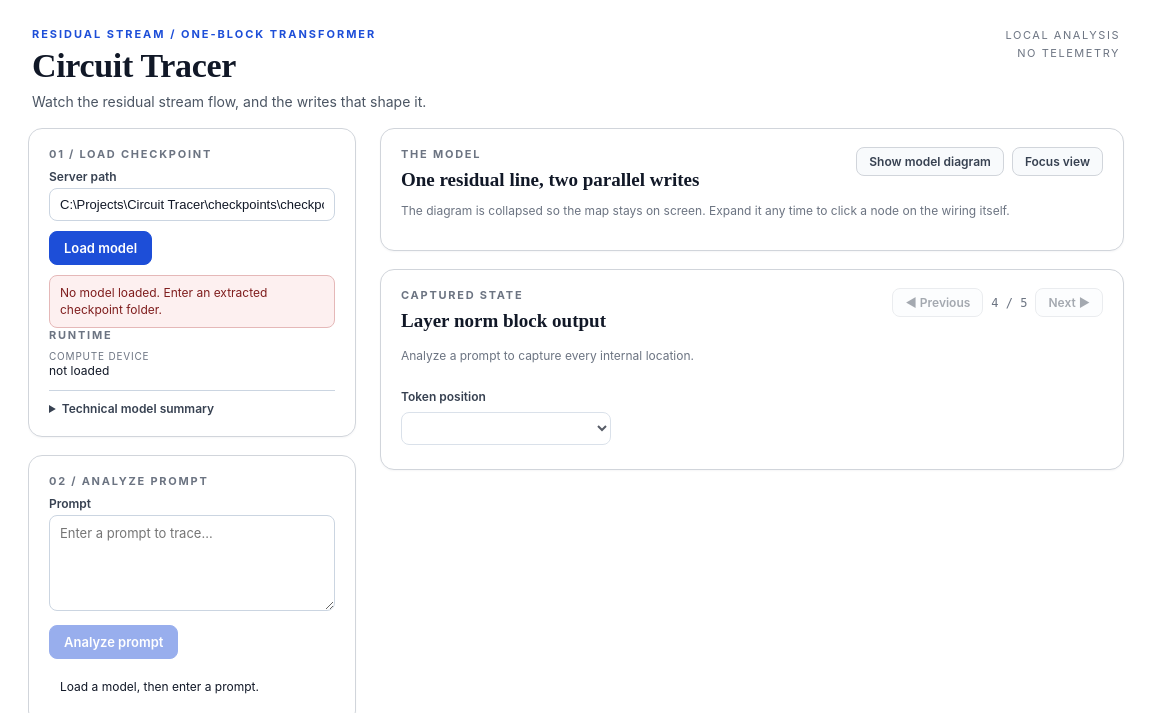
it: App › loads the stream graph on start
What coordinates should you click on to do the following:
click the button "Show model diagram"
I would click on:
 (930, 162)
Its box is [856,147,1004,176].
(page scrolled)
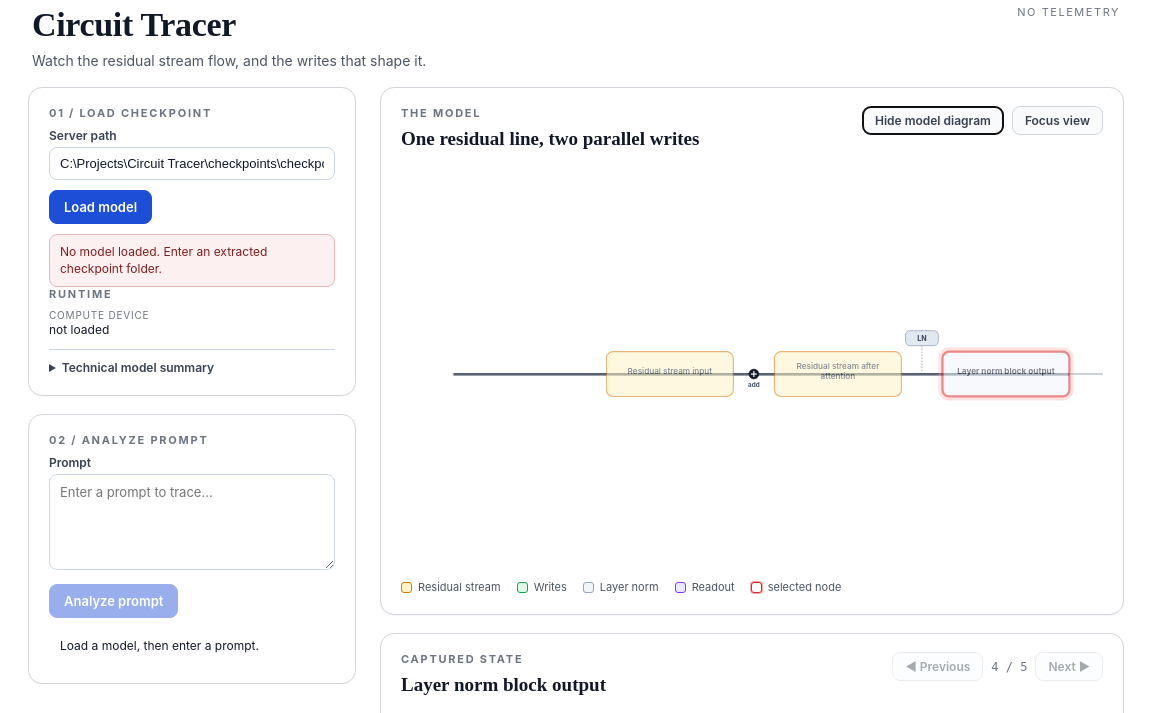
Expected: the icon with test id "residual-graph" shows "Residual stream input", [628,366,712,376]
